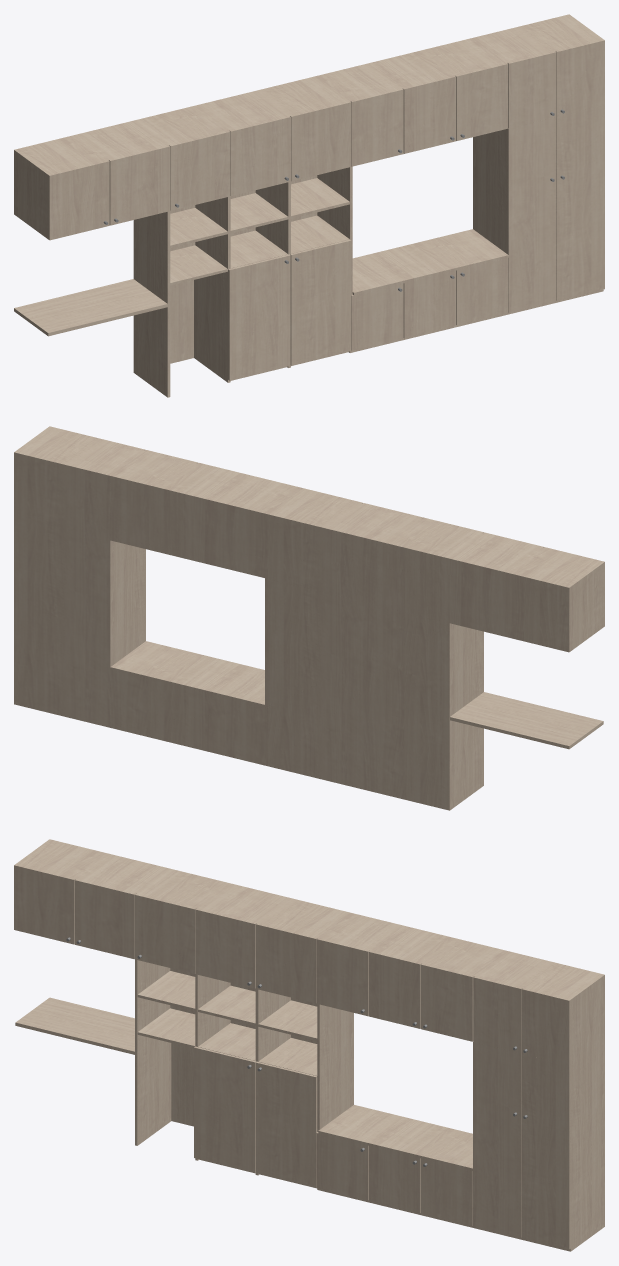
The model's file is board fix.fbx.
The picture shows the model from 3 angles, top to bottom: view 1: azimuth 30°, elevation 25°; view 2: azimuth 150°, elevation 25°; view 3: azimuth 330°, elevation 25°; orthographic projection.
Parts seen in each view (by area): view 1: Group_600, Object606519; view 2: Group_600, Object606519; view 3: Group_600, Object606519.
Boxes of the visible parts, <box> form: Group_600: <box>14,14,604,397</box>; Object606519: <box>14,279,167,336</box>; Group_600: <box>14,426,604,810</box>; Object606519: <box>450,692,603,749</box>; Group_600: <box>14,839,604,1251</box>; Object606519: <box>15,997,134,1054</box>.
Bounding box in the file's own units: 4497 × 1950 × 525.
2 materials, 1 textured.
